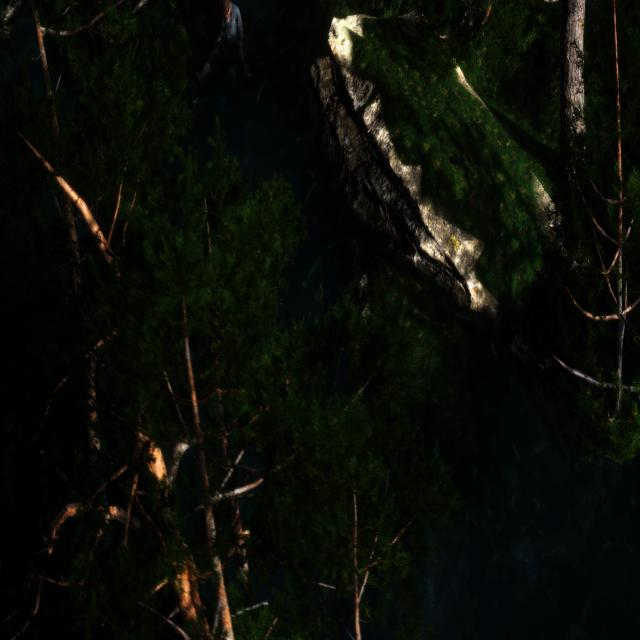Human: (194, 0, 254, 93)
